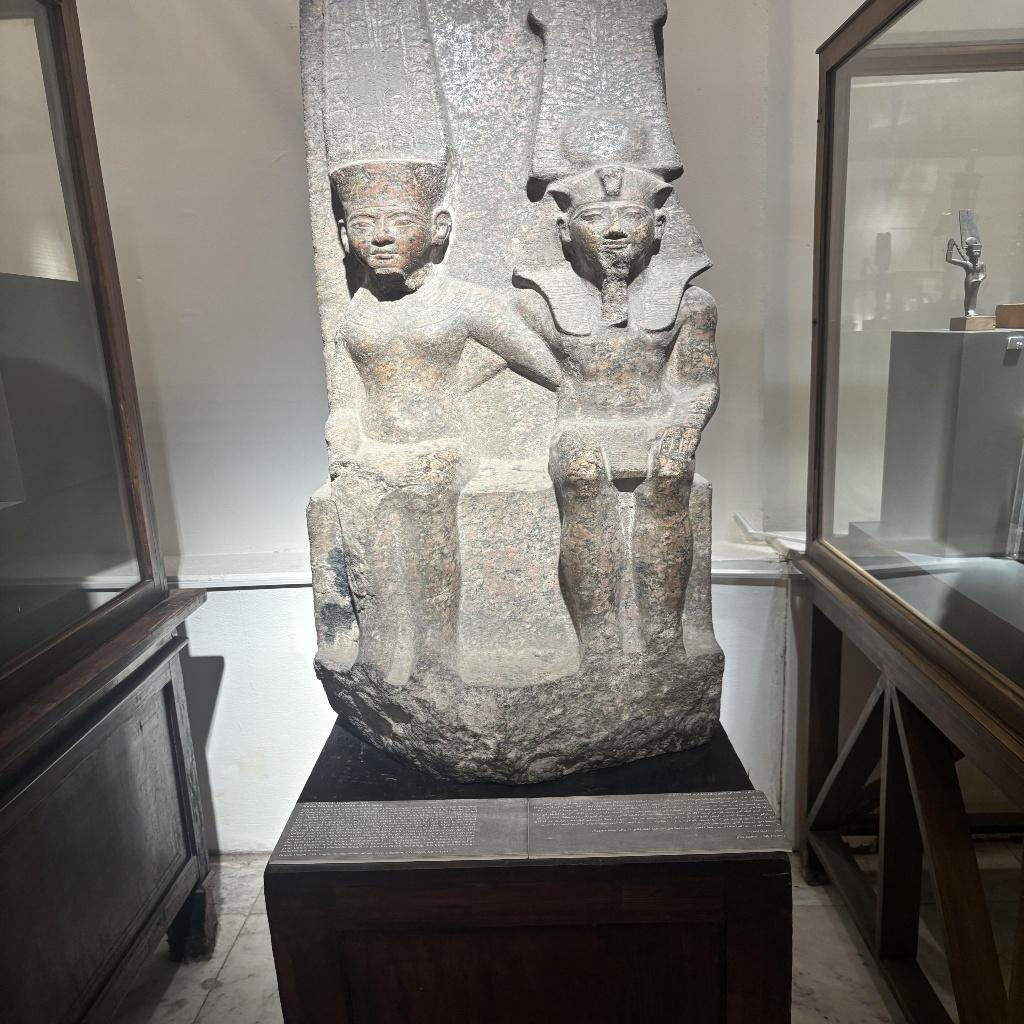Statue of Amun and King: (290, 90, 726, 750)
